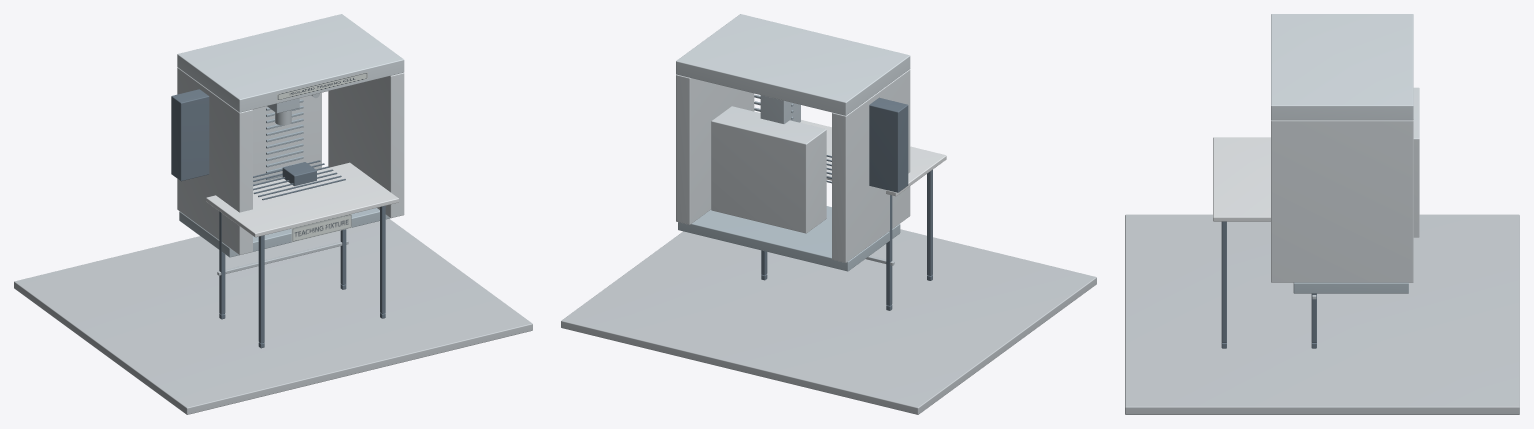
The model's file is workstation.glb.
3 renders of one model, left to right at view 1: azimuth 30°, elevation 25°; view 2: azimuth 150°, elevation 25°; view 3: azimuth 270°, elevation 25°, orthographic. The views are drawn at different scales.
Parts seen in each view (by area): view 1: cnc_toolchange_environment/0000_workshop_floor, cnc_toolchange_environment/0010_machine_header, cnc_toolchange_environment/0009_machine_side_column, cnc_toolchange_environment/0008_machine_side_column, cnc_toolchange_environment/0001_worktop, cnc_toolchange_environment/0007_machine_column, cnc_toolchange_environment/0043_control_console, cnc_toolchange_environment/0011_chip_tray, cnc_toolchange_environment/label_44, cnc_toolchange_environment/0002_table_leg, cnc_toolchange_environment/label_41, cnc_toolchange_environment/0004_table_leg (+3 smaller); view 2: cnc_toolchange_environment/0000_workshop_floor, cnc_toolchange_environment/0010_machine_header, cnc_toolchange_environment/0007_machine_column, cnc_toolchange_environment/0008_machine_side_column, cnc_toolchange_environment/0009_machine_side_column, cnc_toolchange_environment/0011_chip_tray, cnc_toolchange_environment/0043_control_console, cnc_toolchange_environment/0001_worktop, cnc_toolchange_environment/0032_spindle_housing, cnc_toolchange_environment/0002_table_leg, cnc_toolchange_environment/0003_table_leg; view 3: cnc_toolchange_environment/0000_workshop_floor, cnc_toolchange_environment/0009_machine_side_column, cnc_toolchange_environment/0010_machine_header, cnc_toolchange_environment/0001_worktop, cnc_toolchange_environment/0011_chip_tray, cnc_toolchange_environment/0007_machine_column, cnc_toolchange_environment/0004_table_leg.
Part boxes in pixels (x1=…): cnc_toolchange_environment/0000_workshop_floor: x1=14, y1=218, x2=532, y2=414; cnc_toolchange_environment/0010_machine_header: x1=177, y1=14, x2=404, y2=112; cnc_toolchange_environment/0009_machine_side_column: x1=328, y1=72, x2=404, y2=218; cnc_toolchange_environment/0008_machine_side_column: x1=177, y1=67, x2=252, y2=254; cnc_toolchange_environment/0001_worktop: x1=206, y1=162, x2=398, y2=237; cnc_toolchange_environment/0007_machine_column: x1=253, y1=92, x2=321, y2=184; cnc_toolchange_environment/0043_control_console: x1=171, y1=89, x2=209, y2=181; cnc_toolchange_environment/0011_chip_tray: x1=179, y1=208, x2=390, y2=257; cnc_toolchange_environment/label_44: x1=291, y1=213, x2=351, y2=242; cnc_toolchange_environment/0002_table_leg: x1=258, y1=235, x2=264, y2=343; cnc_toolchange_environment/label_41: x1=277, y1=72, x2=367, y2=100; cnc_toolchange_environment/0004_table_leg: x1=380, y1=205, x2=385, y2=313; cnc_toolchange_environment/0000_workshop_floor: x1=561, y1=229, x2=1096, y2=414; cnc_toolchange_environment/0010_machine_header: x1=676, y1=14, x2=910, y2=115; cnc_toolchange_environment/0007_machine_column: x1=711, y1=106, x2=826, y2=233; cnc_toolchange_environment/0008_machine_side_column: x1=832, y1=69, x2=910, y2=262; cnc_toolchange_environment/0009_machine_side_column: x1=676, y1=74, x2=754, y2=224; cnc_toolchange_environment/0011_chip_tray: x1=678, y1=206, x2=900, y2=271; cnc_toolchange_environment/0043_control_console: x1=869, y1=97, x2=908, y2=192; cnc_toolchange_environment/0001_worktop: x1=800, y1=120, x2=946, y2=196; cnc_toolchange_environment/0032_spindle_housing: x1=760, y1=95, x2=800, y2=123; cnc_toolchange_environment/0002_table_leg: x1=927, y1=169, x2=932, y2=275; cnc_toolchange_environment/0003_table_leg: x1=886, y1=195, x2=892, y2=305; cnc_toolchange_environment/0000_workshop_floor: x1=1125, y1=214, x2=1519, y2=414; cnc_toolchange_environment/0009_machine_side_column: x1=1271, y1=120, x2=1413, y2=282; cnc_toolchange_environment/0010_machine_header: x1=1271, y1=14, x2=1413, y2=120; cnc_toolchange_environment/0001_worktop: x1=1213, y1=137, x2=1270, y2=221; cnc_toolchange_environment/0011_chip_tray: x1=1293, y1=282, x2=1408, y2=293; cnc_toolchange_environment/0007_machine_column: x1=1413, y1=87, x2=1419, y2=237; cnc_toolchange_environment/0004_table_leg: x1=1221, y1=221, x2=1226, y2=342.
Bounding box in the file's own units: 3 × 1.99 × 2.6.
Materials: 18 (2 with a texture image).
